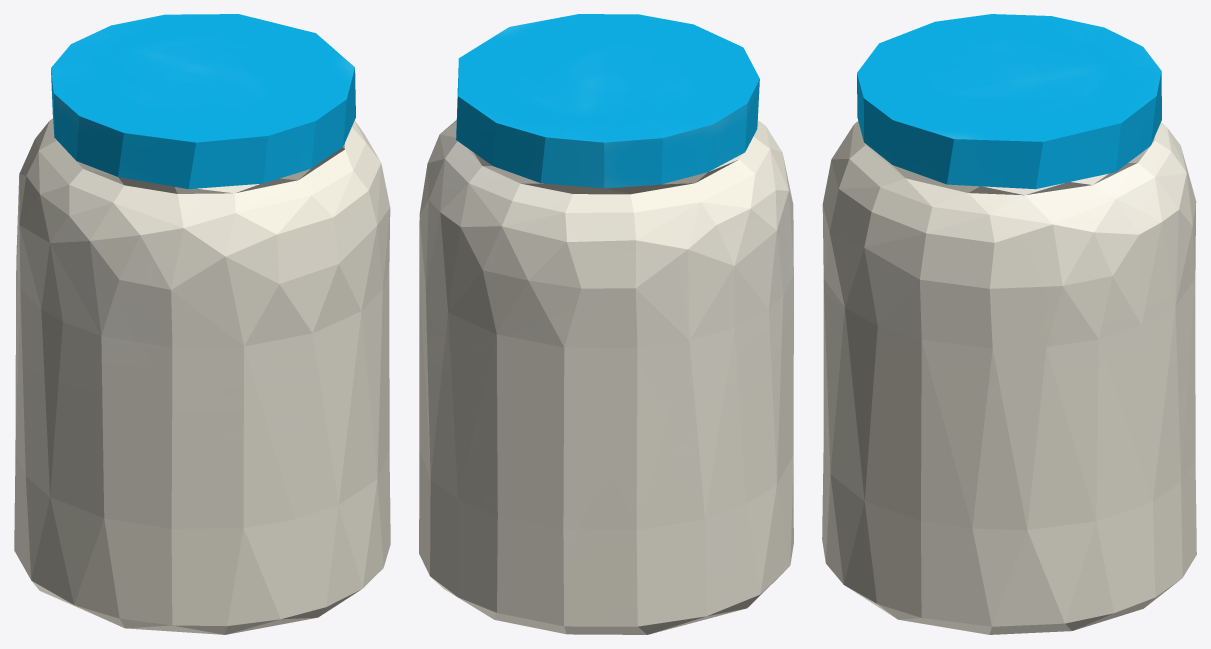
The model's file is Mayo.fbx.
The picture shows the model from 3 angles, left to right: view 1: azimuth 30°, elevation 25°; view 2: azimuth 150°, elevation 25°; view 3: azimuth 270°, elevation 25°; orthographic projection.
Parts seen in each view (by area): view 1: Mayo; view 2: Mayo; view 3: Mayo.
Part boxes in pixels (<box>): Mayo: <box>14,14,390,634</box>; Mayo: <box>419,14,793,634</box>; Mayo: <box>822,14,1196,634</box>.
Size of the model in its own units: 200 by 285 by 200.
